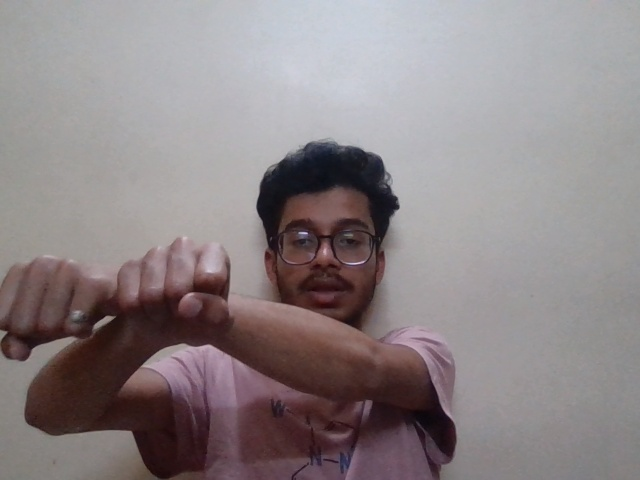work: (1, 222, 270, 395)
